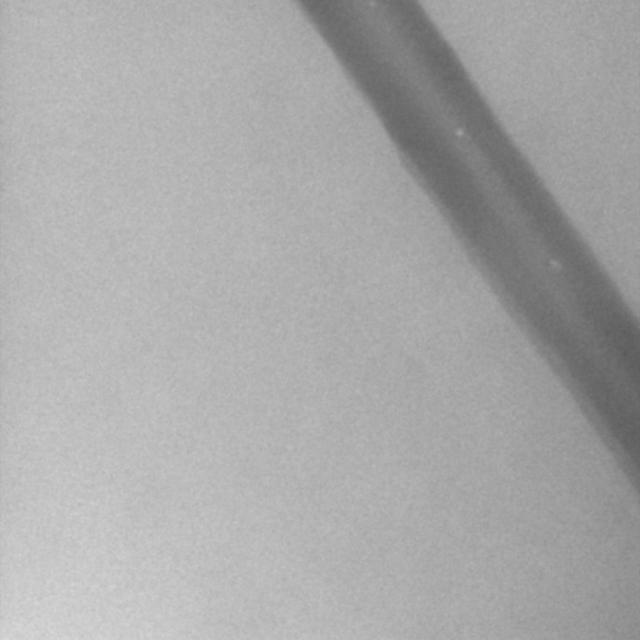air hole: (454, 125, 464, 138)
